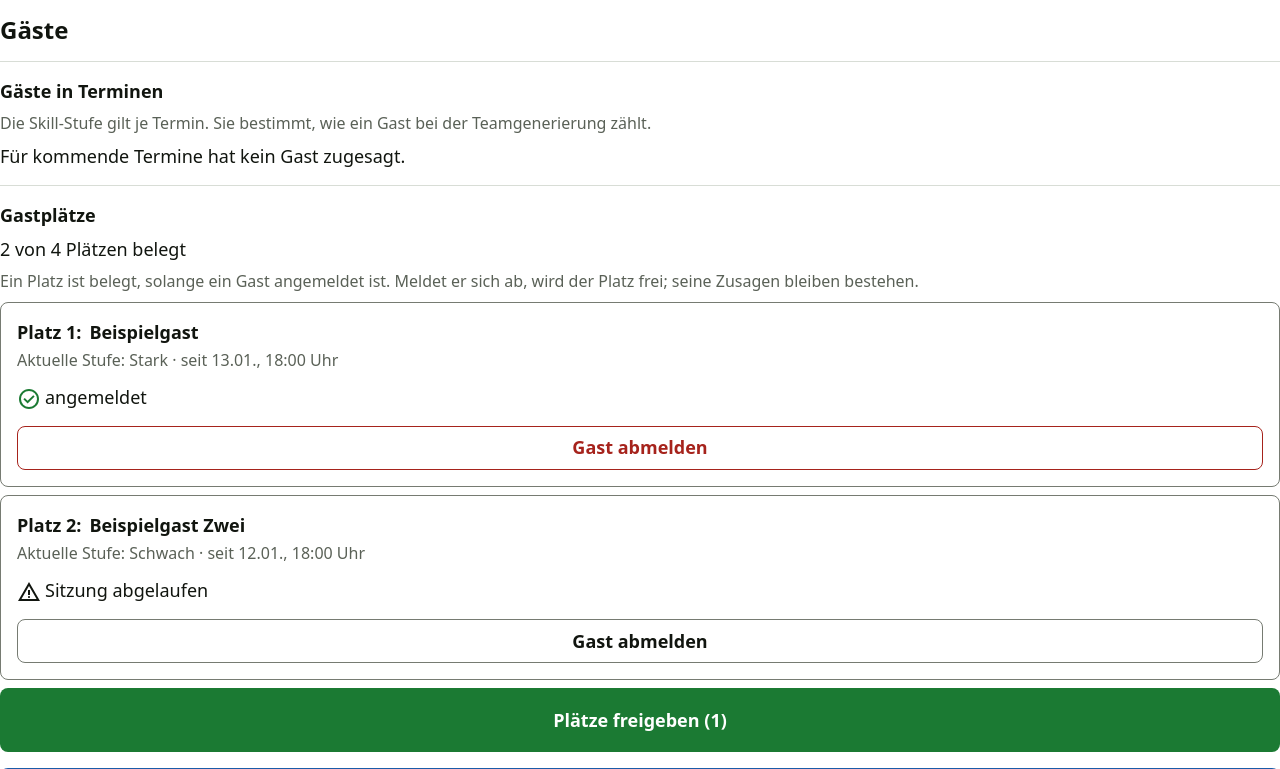
Test case: AdminGaeste – Freigeben › Abbrechen sendet nichts
Click the button with test id "admin-gast-freigeben-1" at (640,448), box [17,426,1263,470]
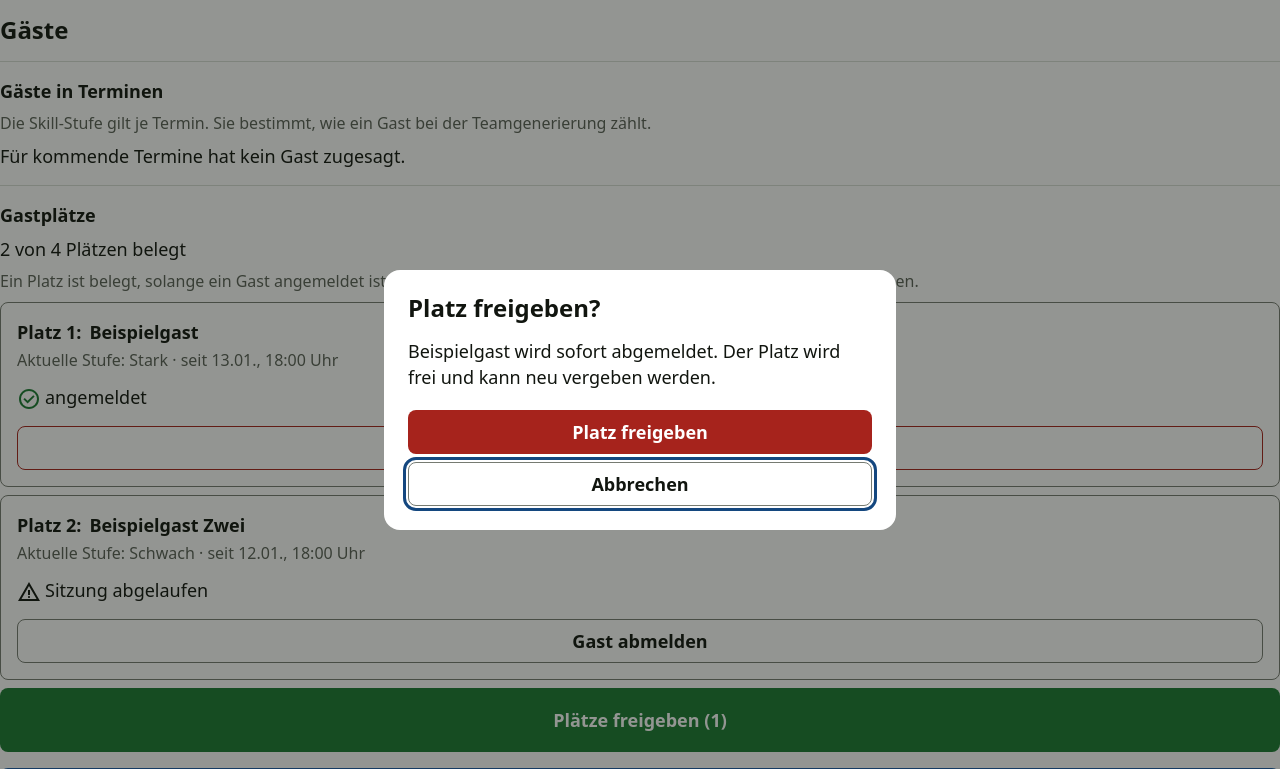
Click the button with test id "admin-gaeste-freigeben-dialog-abbrechen" at (640,484), box [408,462,872,506]
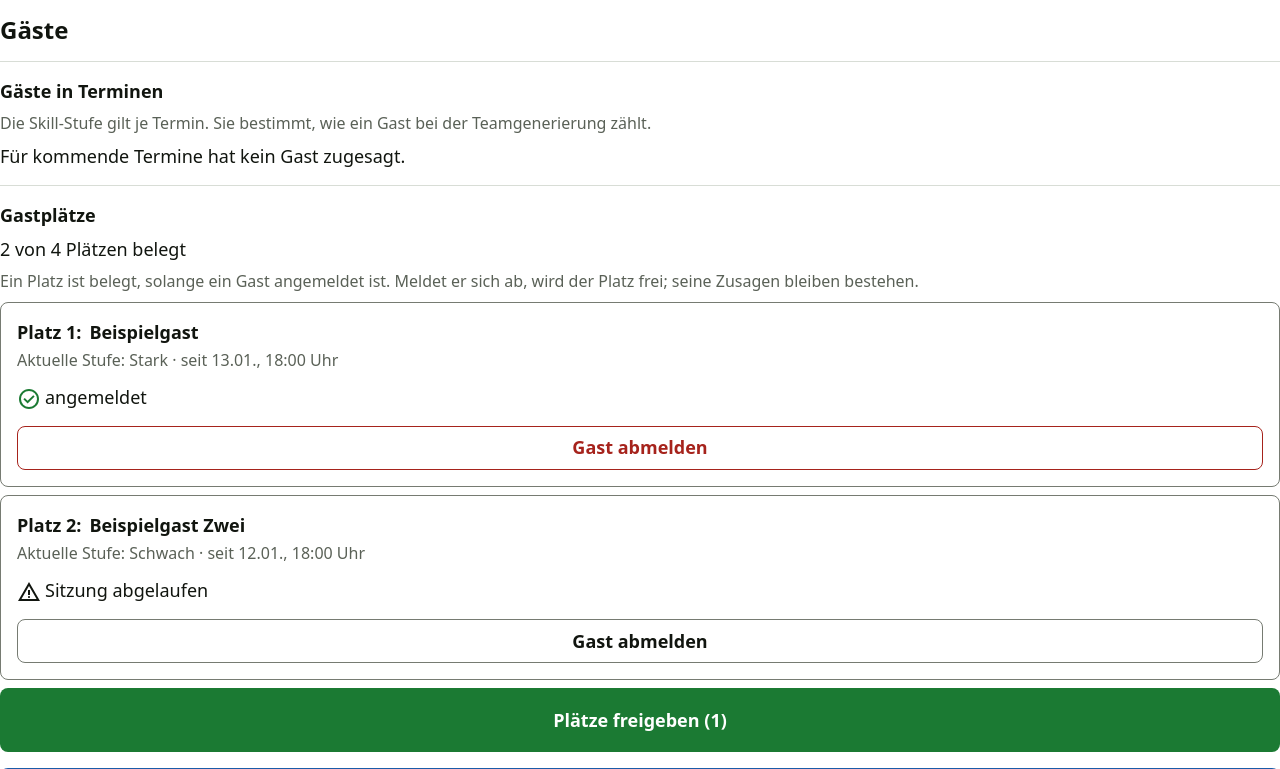
Expected: the list item with test id "admin-gast-1" is shown, [0,302,1279,487]
Result: the button with test id "admin-gaeste-freigeben-dialog-bestaetigen" is gone
